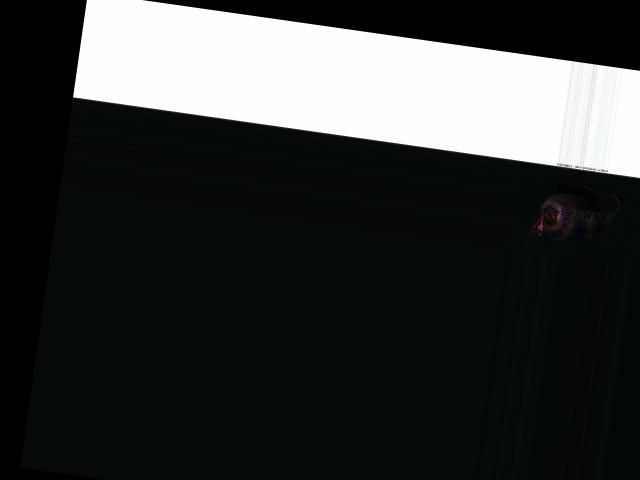beet: (526, 178, 622, 248)
